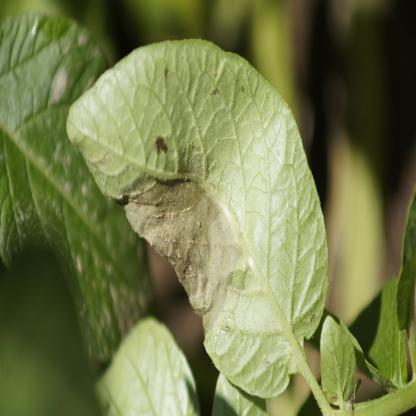potato leaf late blight: (65, 33, 331, 397)
